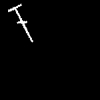double_crochet: (8, 4, 32, 41)
